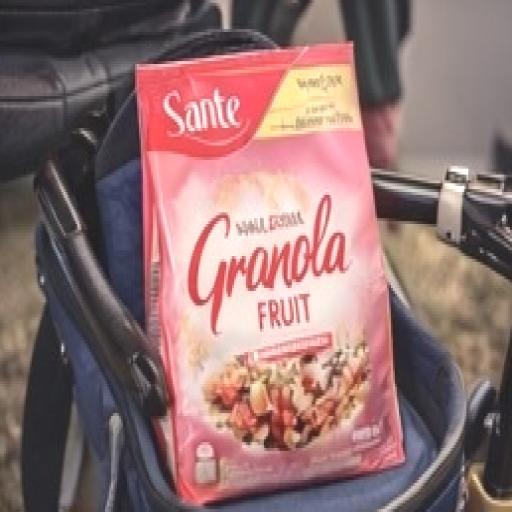granola: (118, 32, 438, 480)
